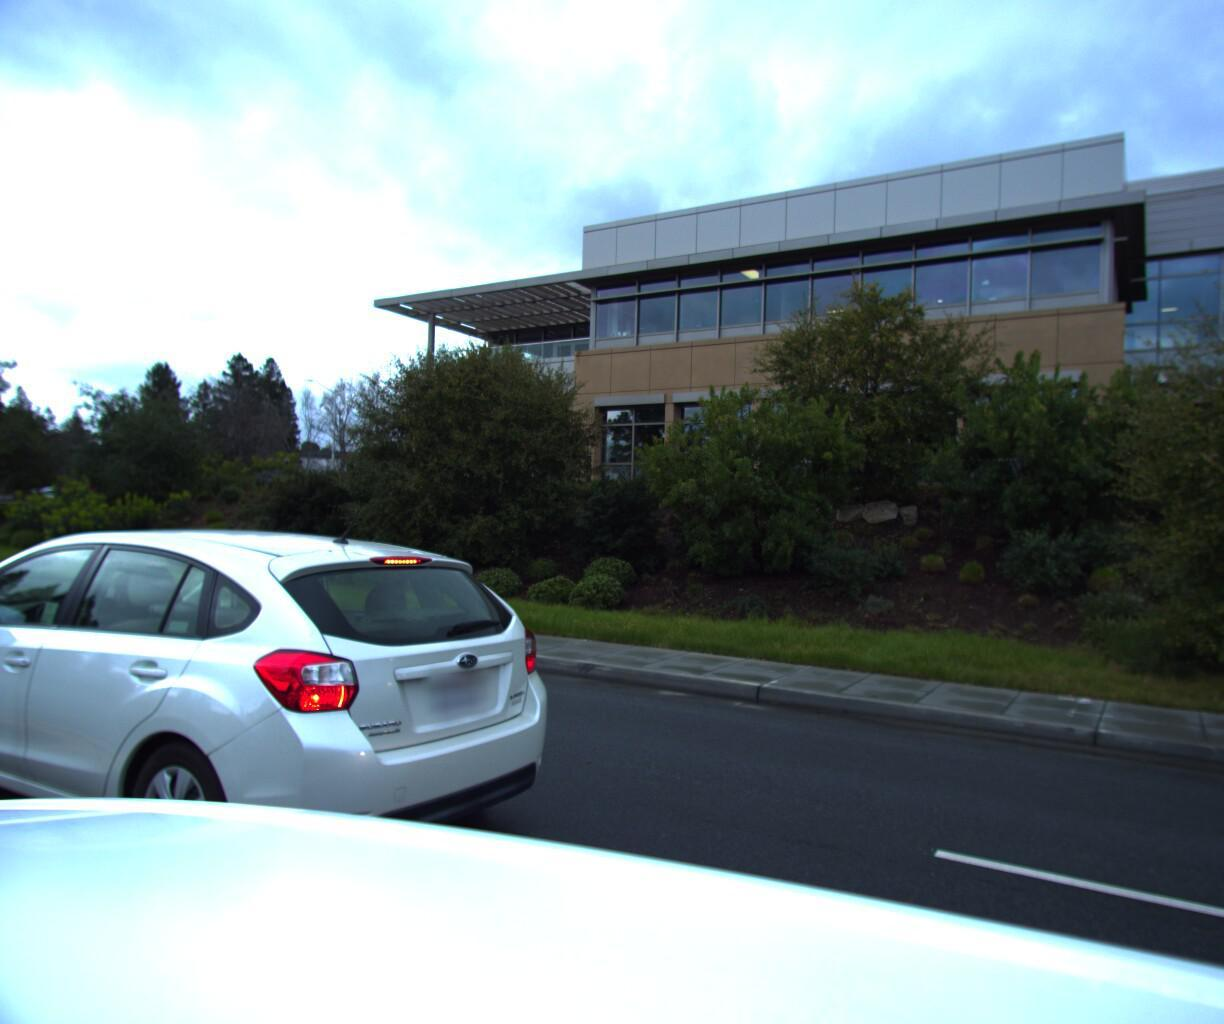car: (0, 502, 592, 996)
